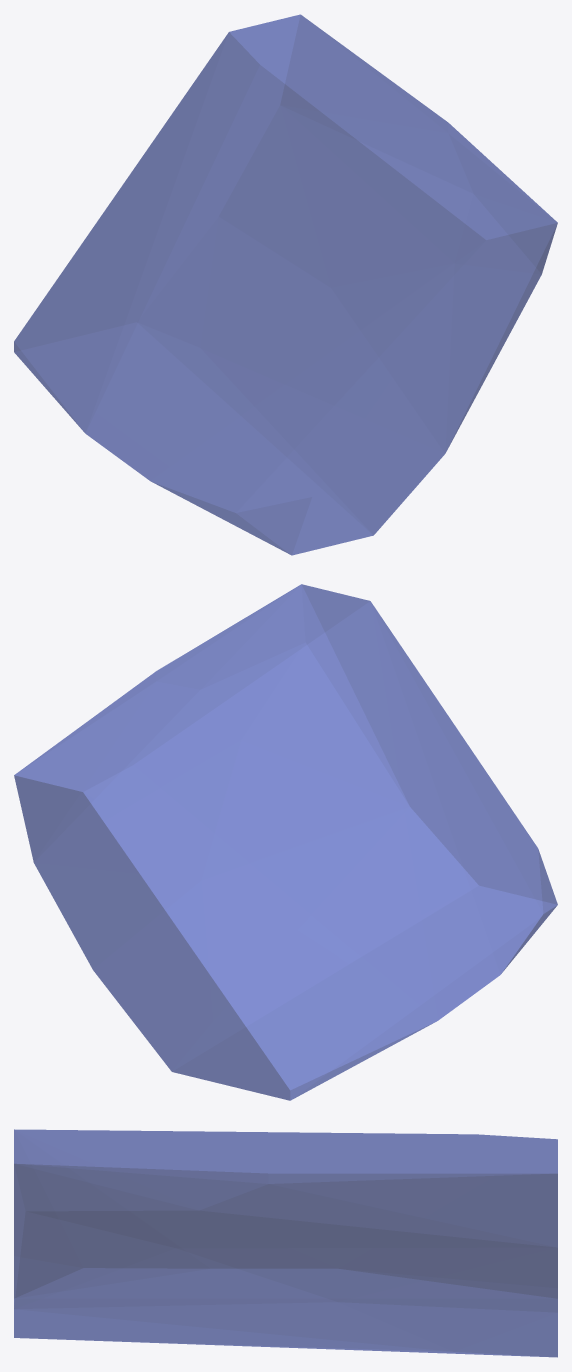
3 views of the same model, one above another, from view 1: azimuth 30°, elevation 25°; view 2: azimuth 150°, elevation 25°; view 3: azimuth 270°, elevation 25° (orthographic). The views are drawn at different scales.
Visible parts, largest first — view 1: Shape_IndexedFaceSet.049_Shape_IndexedFaceSet.5488; view 2: Shape_IndexedFaceSet.049_Shape_IndexedFaceSet.5488; view 3: Shape_IndexedFaceSet.049_Shape_IndexedFaceSet.5488.
Part boxes in pixels (bbox=[...]): Shape_IndexedFaceSet.049_Shape_IndexedFaceSet.5488: bbox=[14, 14, 557, 555]; Shape_IndexedFaceSet.049_Shape_IndexedFaceSet.5488: bbox=[14, 584, 557, 1100]; Shape_IndexedFaceSet.049_Shape_IndexedFaceSet.5488: bbox=[14, 1129, 557, 1357].
Bounding box in the file's own units: 0.0144 × 0.0113 × 0.0212.
